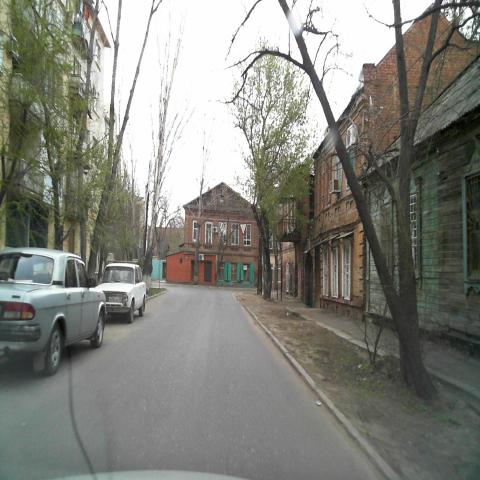2_4: (240, 222, 246, 236)
